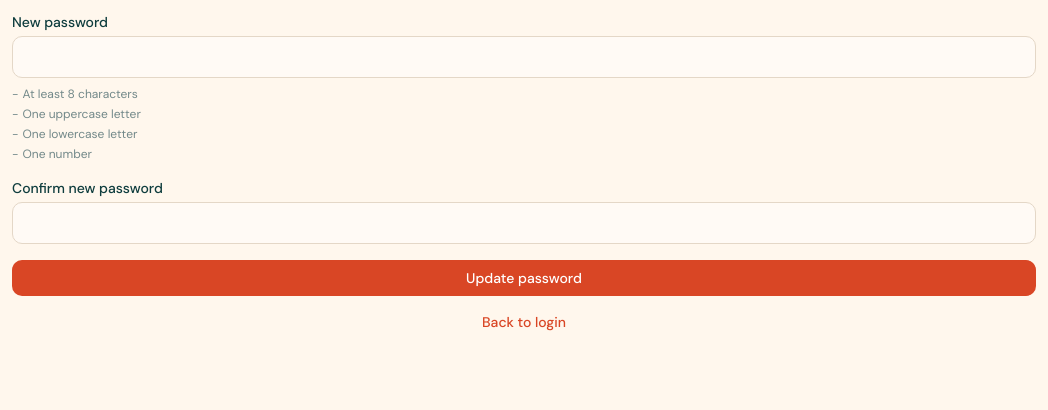
Test: components/auth/UpdatePasswordForm › shows generic error message on unexpected error
The image size is (1048, 410).
Type "Password123!" into the password field labelled "New password" at (524, 57), box [12, 36, 1036, 78]
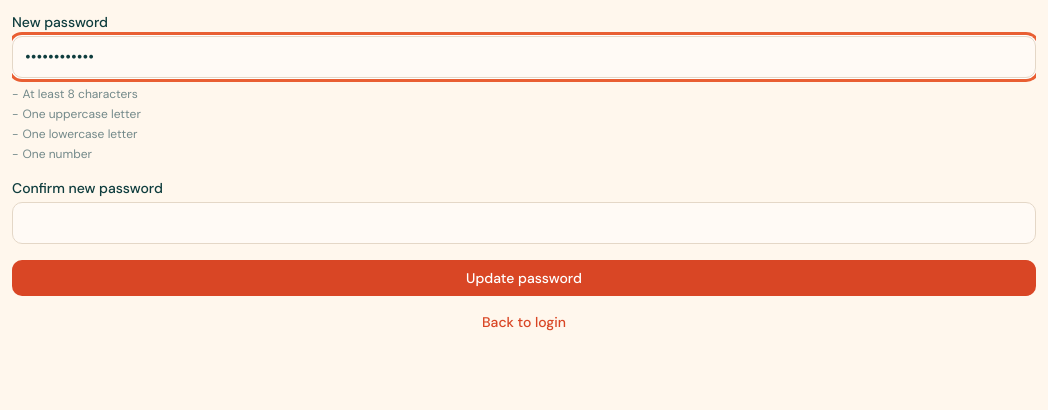
Type "Password123!" into the password field labelled "Confirm new password" at (524, 223), box [12, 202, 1036, 244]
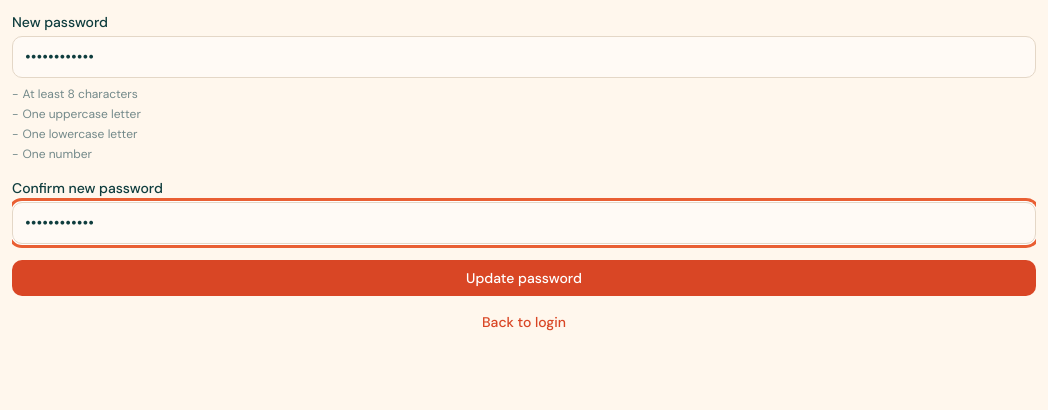
Click the button "Update password" at (524, 278), box [12, 260, 1036, 296]
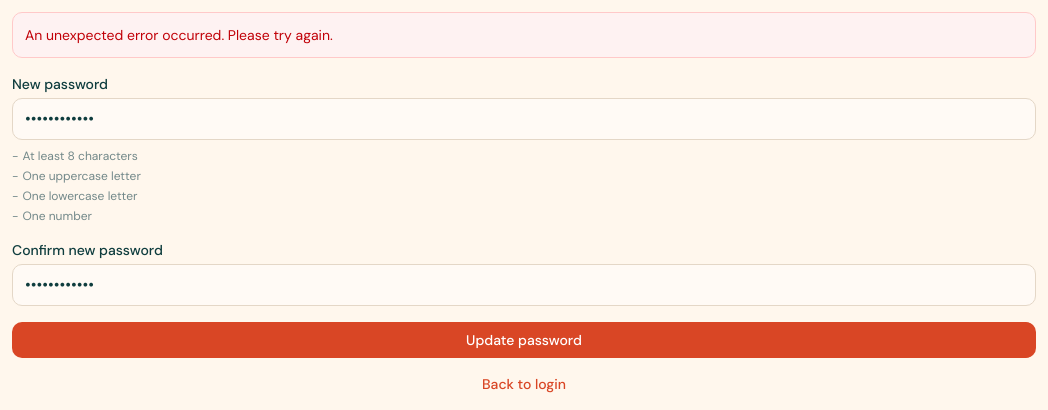
Expected: the message reads "An unexpected error occurred. Please try again.", [25, 26, 333, 44]
